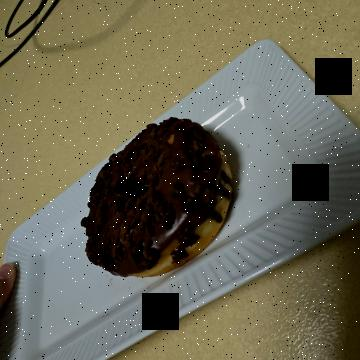doughnut: (103, 114, 292, 290)
